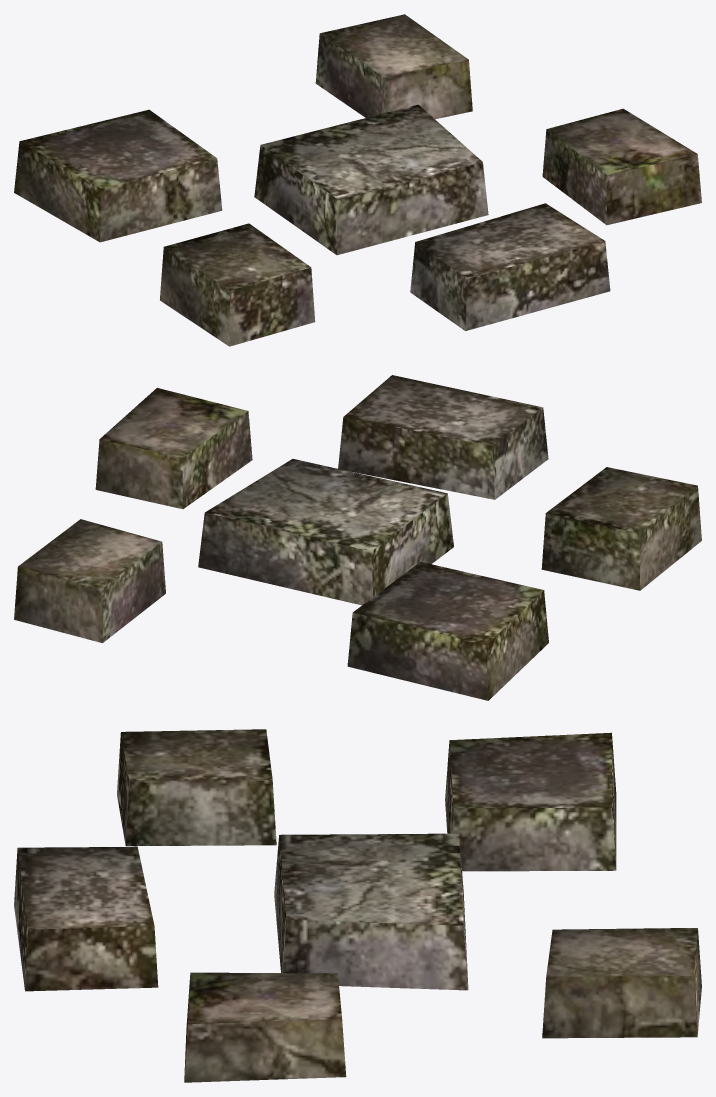
File: KM_VOB_BRICK_03_SMALL.glb
3 renders of one model, top to bottom at view 1: azimuth 30°, elevation 25°; view 2: azimuth 150°, elevation 25°; view 3: azimuth 270°, elevation 25°, orthographic. The views are drawn at different scales.
Parts seen in each view (by area): view 1: Mesh; view 2: Mesh; view 3: Mesh.
Boxes of the visible parts, <box> form: Mesh: <box>14,14,701,346</box>; Mesh: <box>14,375,701,700</box>; Mesh: <box>14,729,701,1082</box>.
Bounding box in the file's own units: 0.9028 × 0.0924 × 0.9001.
Materials: 1 (1 with a texture image).
